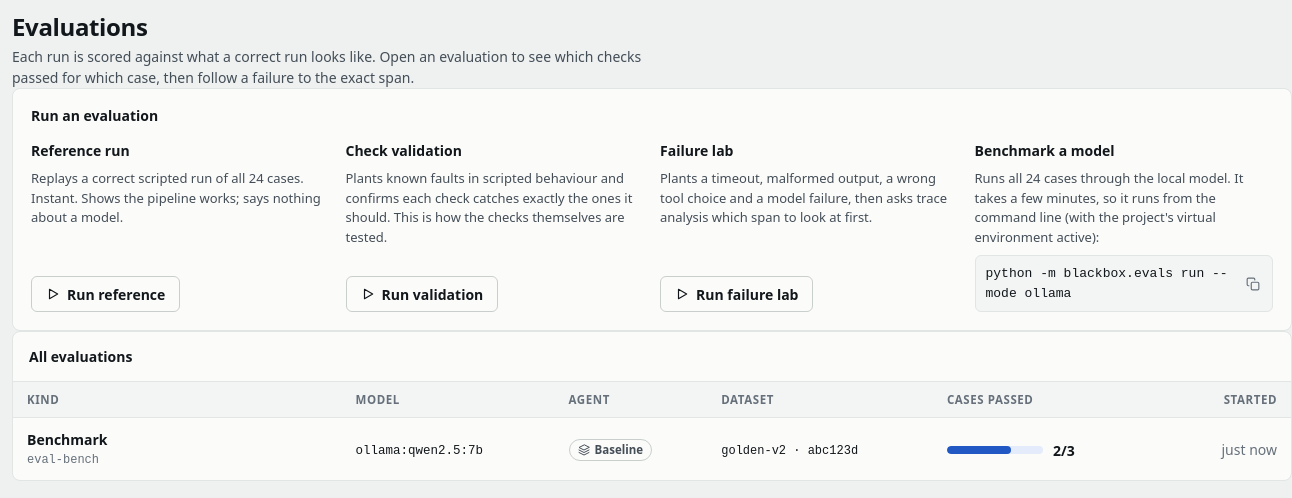
EvalsPage › starts a scripted evaluation and opens its report
Click the button "Run reference" at (106, 294), box left=31, top=276, right=180, bottom=312
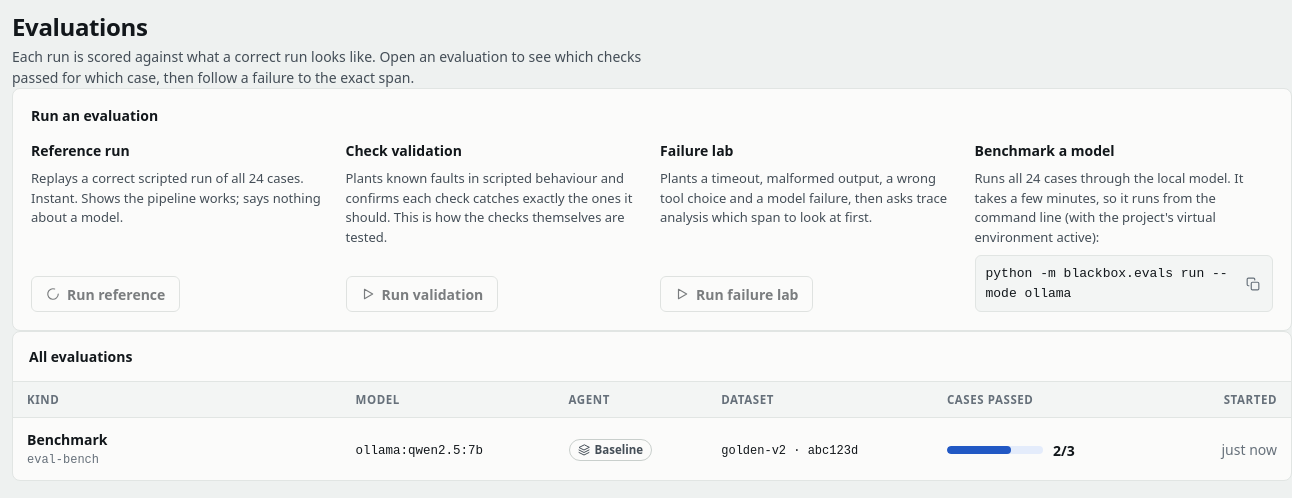
Check: the button "Run validation" is disabled, box left=346, top=276, right=498, bottom=312
